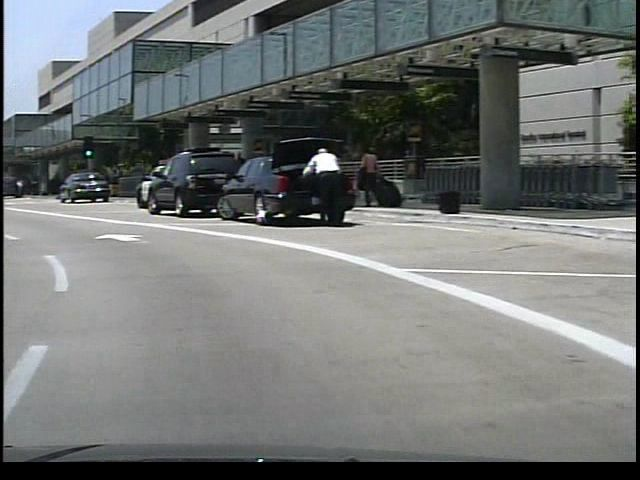person: (295, 144, 343, 231), (352, 146, 374, 212), (352, 144, 372, 212)
